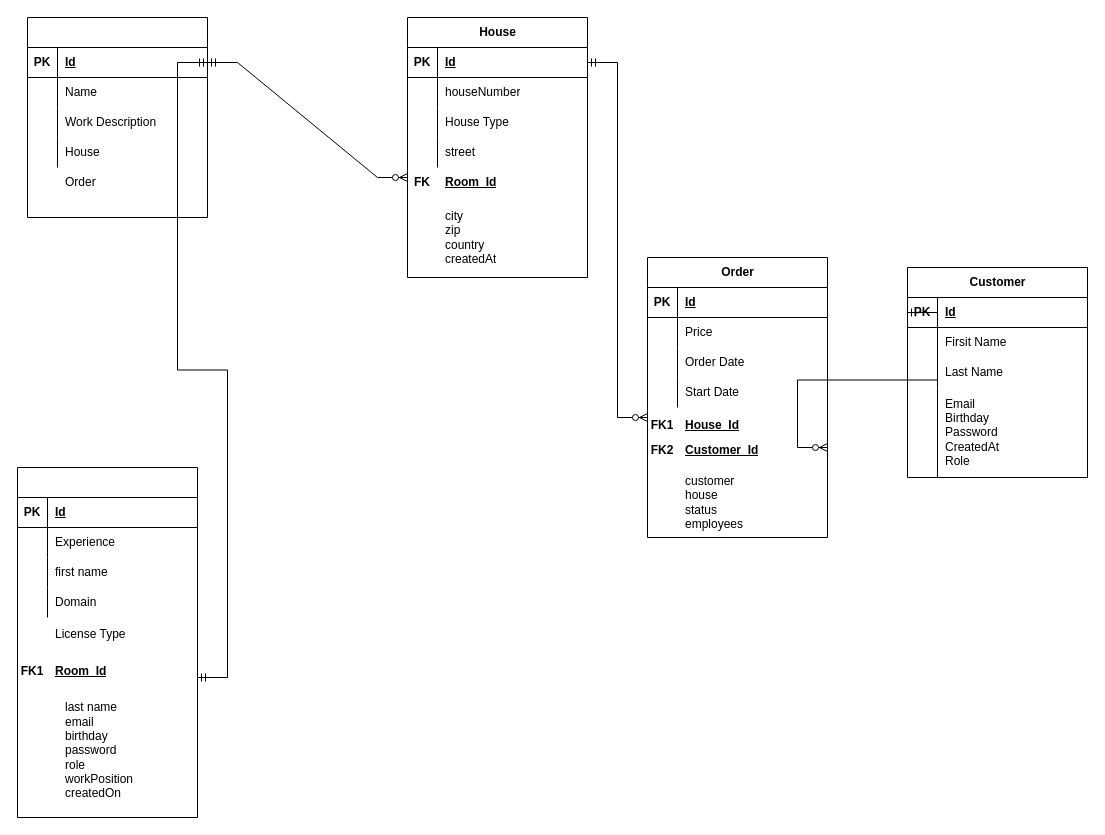
Some shapes in this 1105 by 835 pixel diagram are drawn without their labels. The box of each missing label's shape, as (x1, y1, x2, y2) in pixels:
Employee: (16, 466, 198, 818)
Room: (26, 16, 208, 218)
